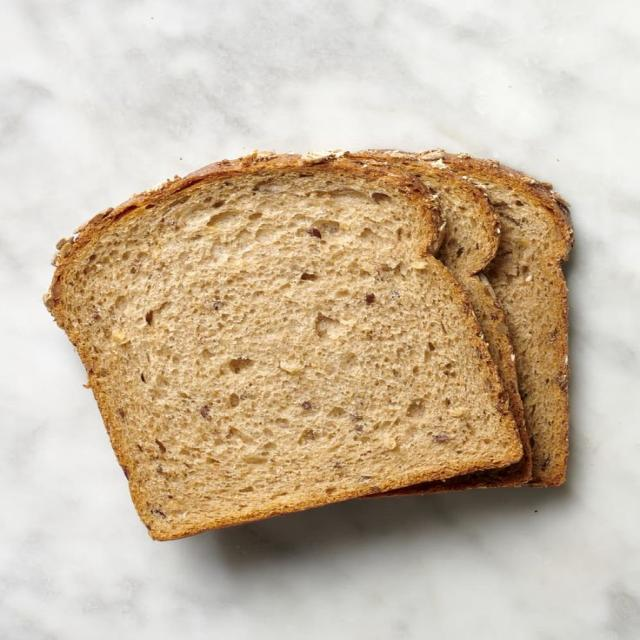sliced bread: (46, 154, 522, 539), (350, 151, 531, 493), (423, 151, 573, 486)
